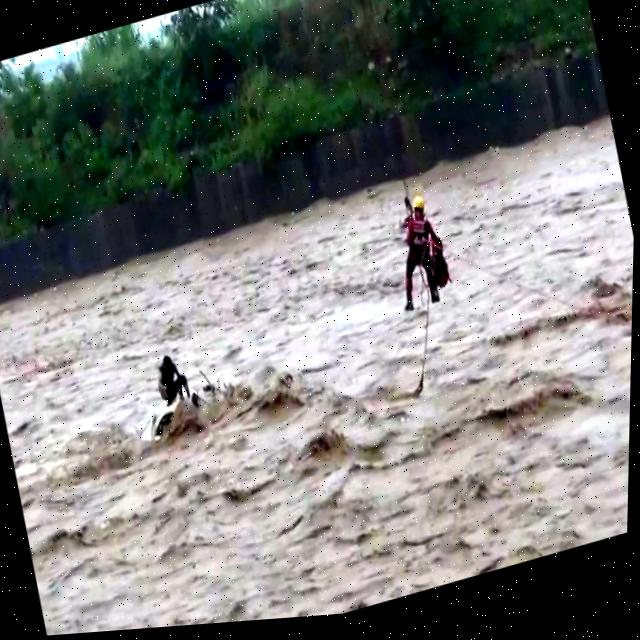rescuer: (379, 180, 468, 322)
